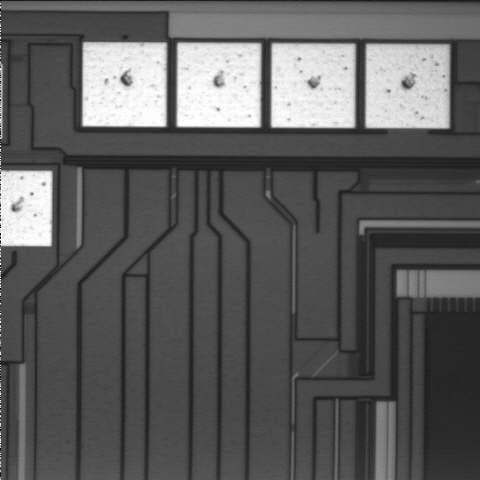pad: (82, 42, 167, 127), (177, 43, 261, 127), (271, 44, 355, 128), (366, 44, 449, 128)
